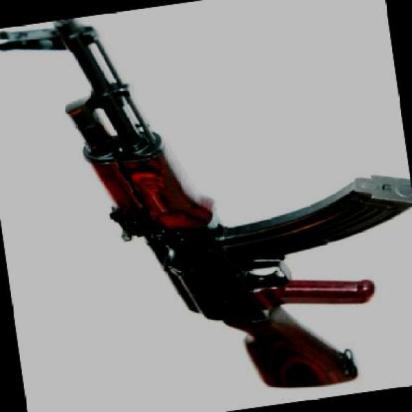Gun: (3, 16, 394, 388)
